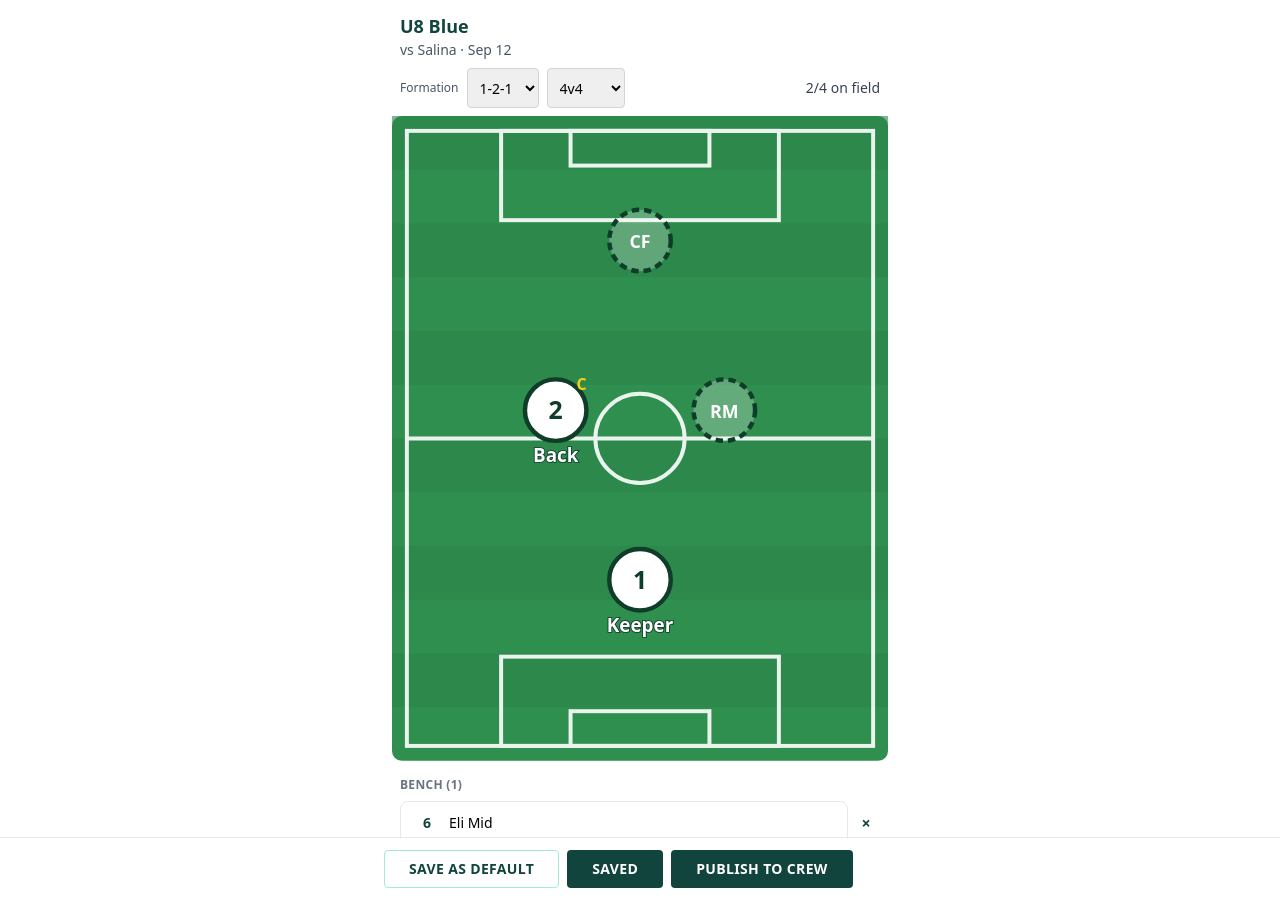
LineupBuilder › Save posts the field slots and the bench in order, with the captain
Expected: the heading "U8 Blue" is shown, [400, 12, 469, 40]
Click the button named "Saved?": (615, 869) [567, 850, 663, 888]
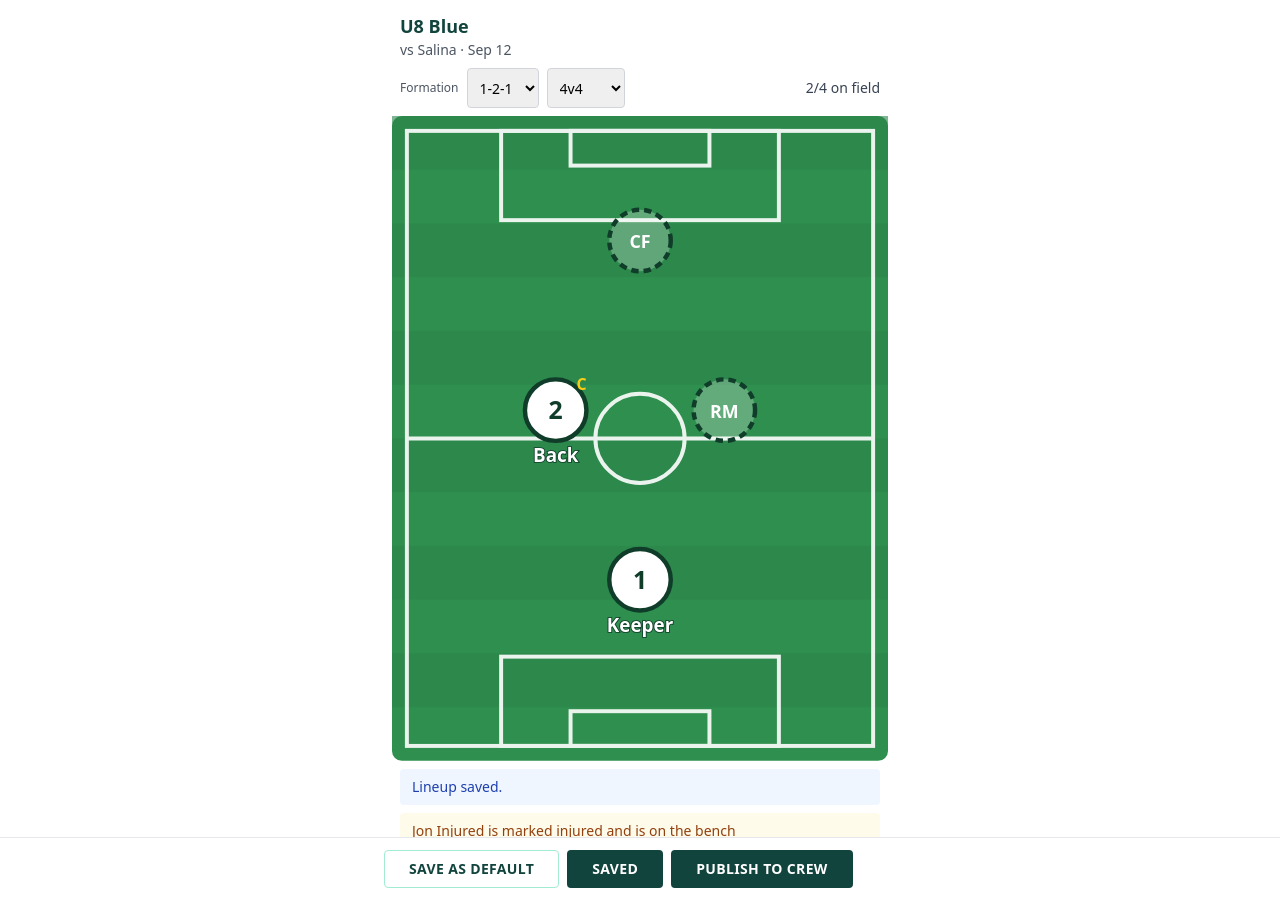
Now the list item "Jon Injured is marked injured and is on the bench" is shown, box [412, 821, 736, 840]
